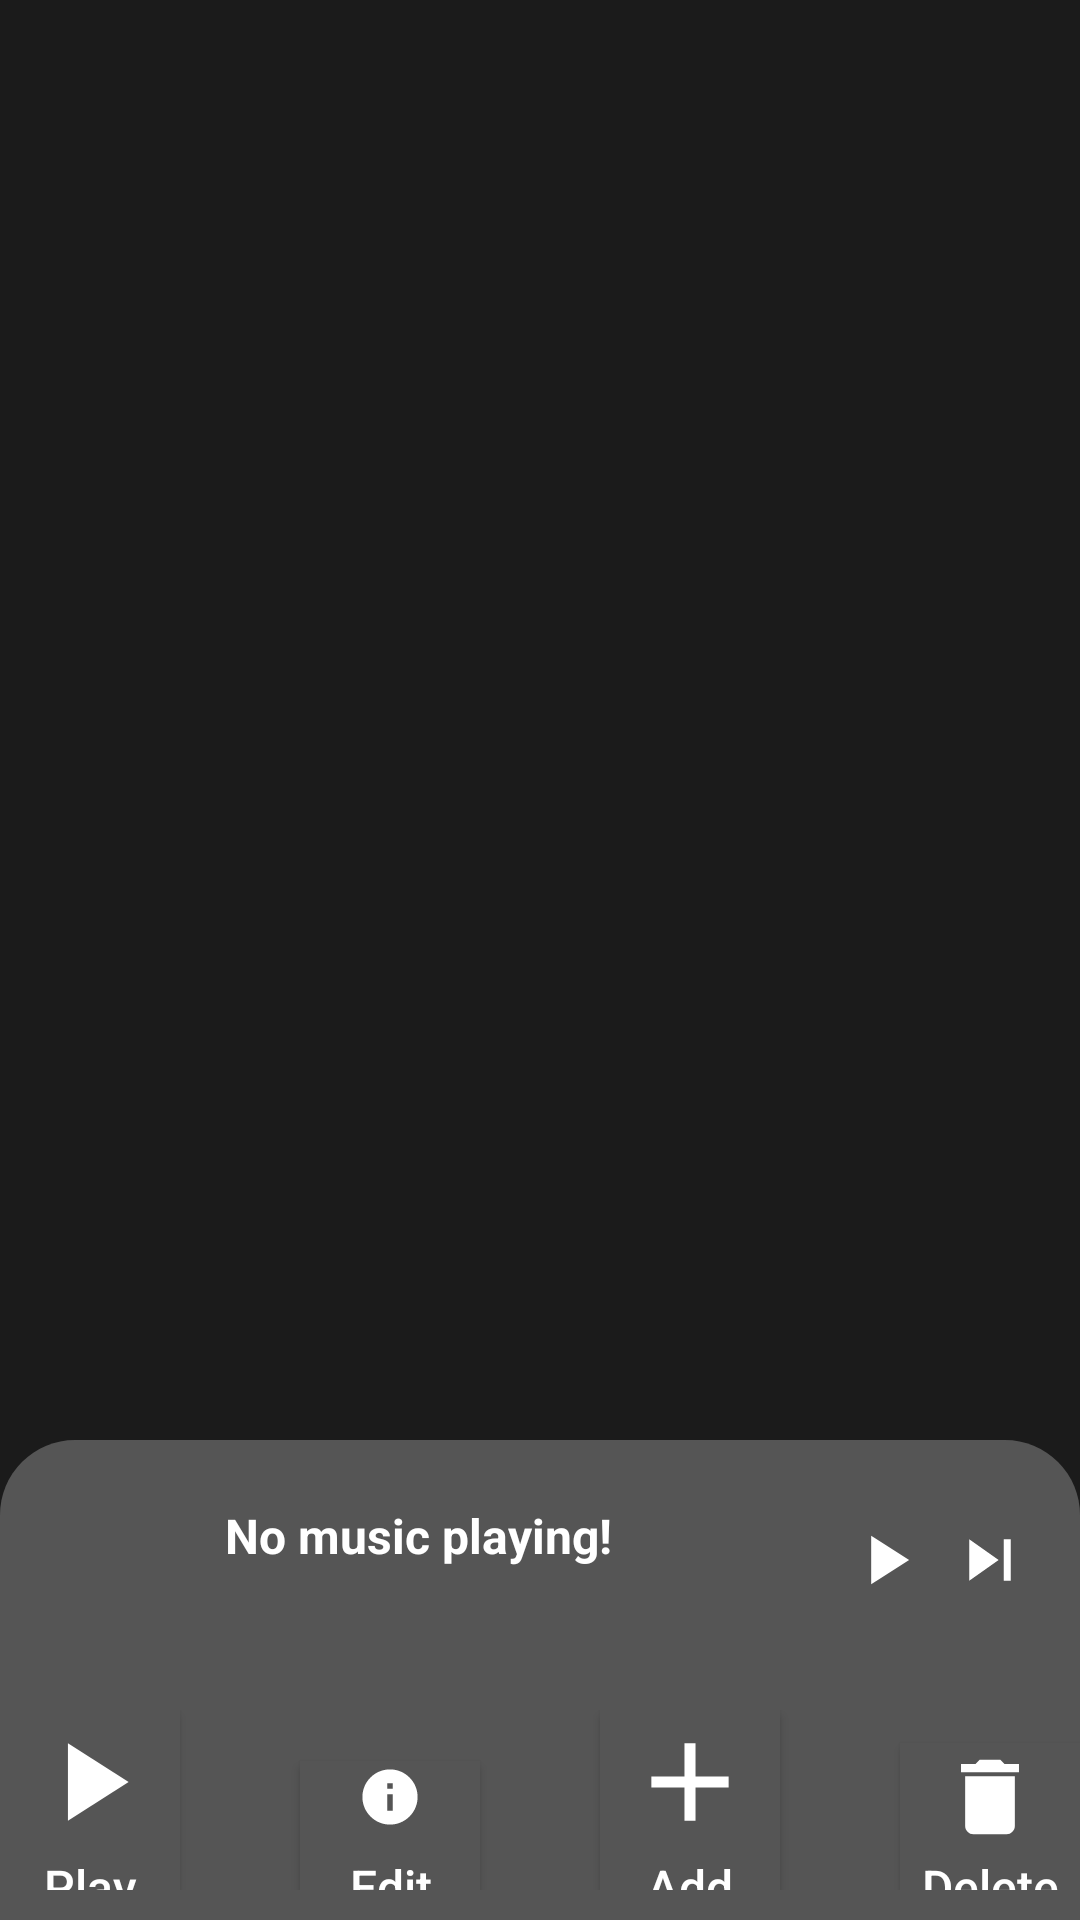

Where icons sit on this 1080 × 1920 app screen, as (x1, y1, x2, y2):
next: (969, 1539, 1011, 1581)
play: (871, 1536, 909, 1584)
